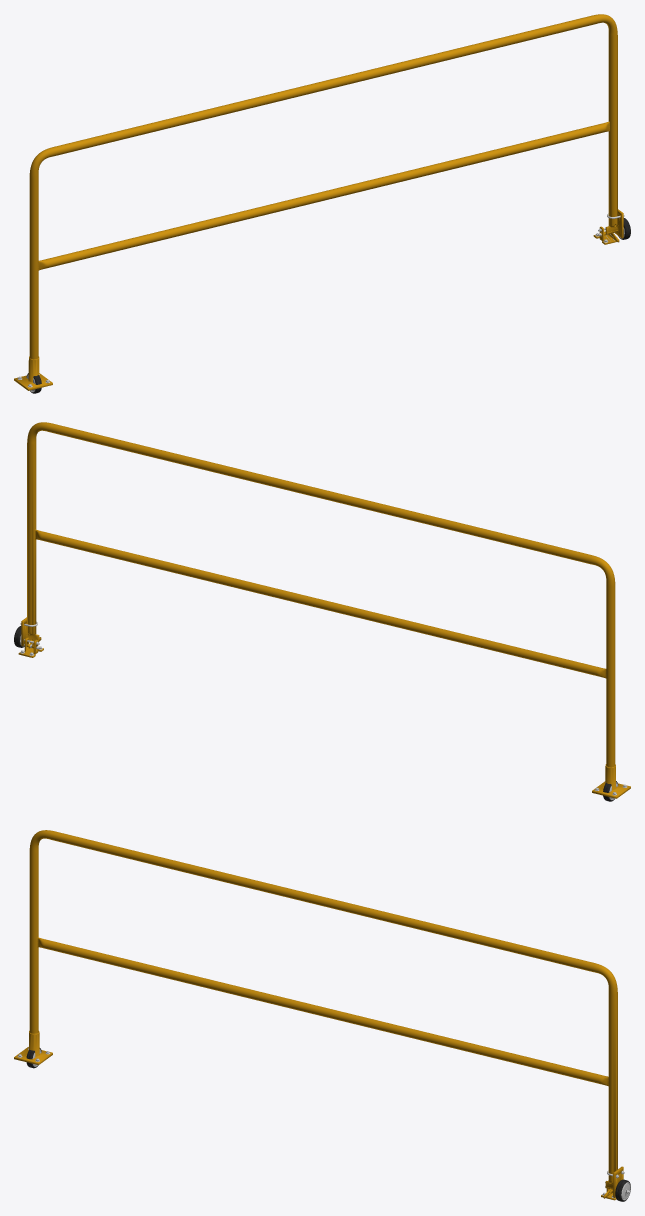
File: gate_dock.glb
3 views of the same model, one above another, from view 1: azimuth 30°, elevation 25°; view 2: azimuth 150°, elevation 25°; view 3: azimuth 330°, elevation 25° (orthographic).
Visible parts, largest first — view 1: sm_barrier_gate_a01_mesh_00 (×2), sm_stand_a01_mesh_00; view 2: sm_barrier_gate_a01_mesh_00 (×2); view 3: sm_barrier_gate_a01_mesh_00 (×2), sm_stand_a01_mesh_00.
Part boxes in pixels (<box>): sm_barrier_gate_a01_mesh_00 (×2): <box>29,14,624,359</box>; sm_stand_a01_mesh_00: <box>14,356,52,390</box>; sm_barrier_gate_a01_mesh_00 (×2): <box>18,422,615,767</box>; sm_barrier_gate_a01_mesh_00 (×2): <box>29,830,630,1200</box>; sm_stand_a01_mesh_00: <box>14,1031,52,1063</box>.
Bounding box in the file's own units: 3.16 × 1.19 × 0.1478.
6 materials, 4 textured.
